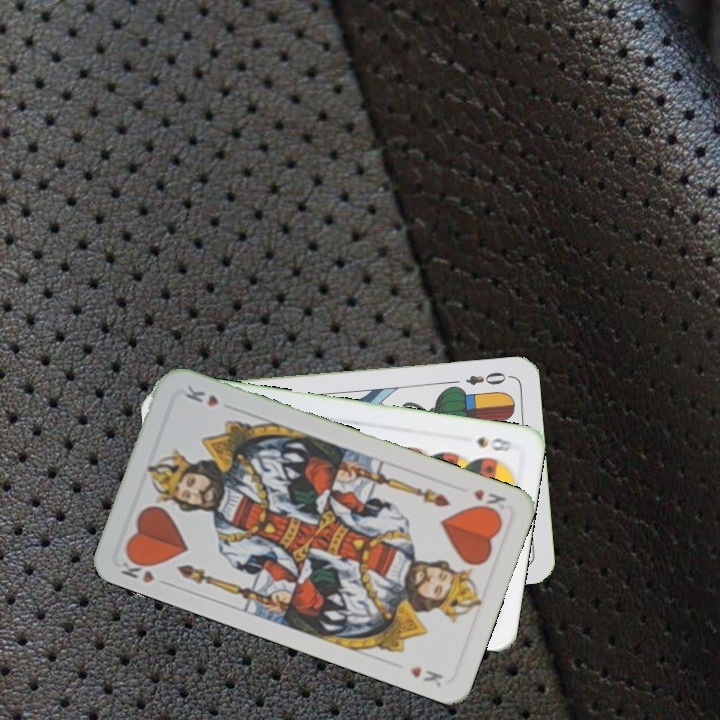EO: (461, 367, 508, 388)
HK: (117, 551, 173, 589), (468, 484, 509, 517)
S8: (472, 432, 514, 454)
